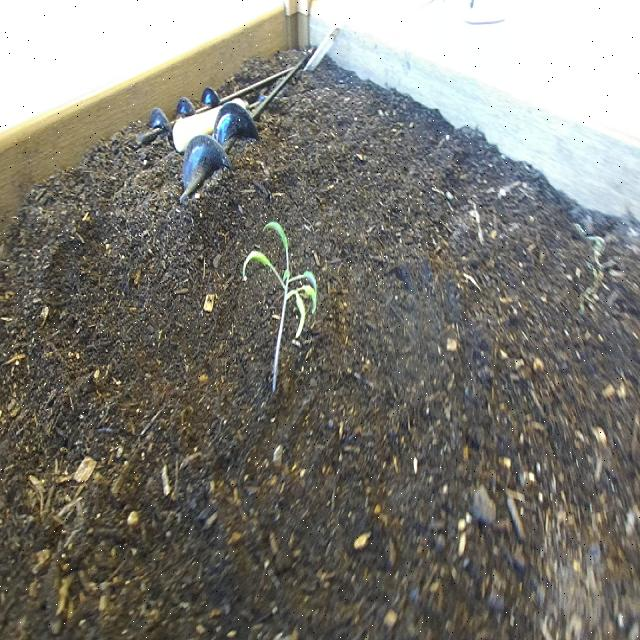Healthy: (240, 207, 325, 413)
